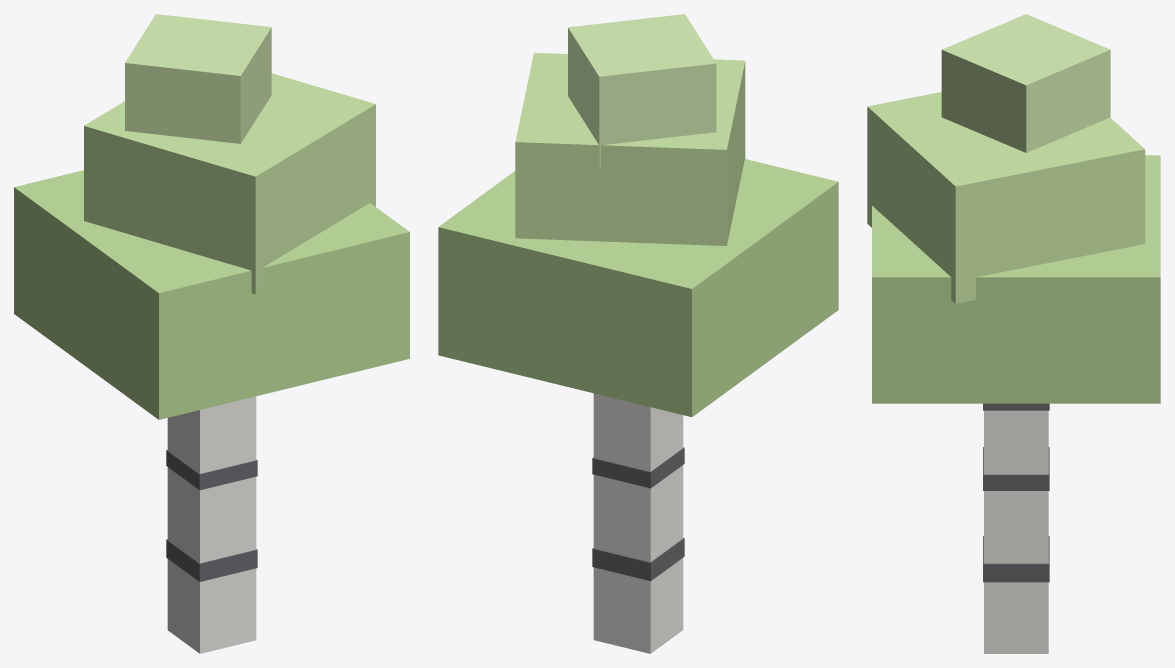
Rendered from TreeBirch.fbx.
The picture shows the model from 3 angles, left to right: view 1: azimuth 30°, elevation 25°; view 2: azimuth 150°, elevation 25°; view 3: azimuth 270°, elevation 25°; orthographic projection.
Parts seen in each view (by area): view 1: Leaves.005, Leaves.006, Trunk.002, Leaves.007, Bark, Bark.001; view 2: Leaves.005, Leaves.006, Trunk.002, Leaves.007, Bark, Bark.001; view 3: Leaves.005, Leaves.006, Leaves.007, Trunk.002, Bark, Bark.001, Bark.002.
Boxes of the visible parts, x1=… form: Leaves.005: x1=14, y1=170, x2=409, y2=419; Leaves.006: x1=84, y1=73, x2=375, y2=294; Trunk.002: x1=167, y1=396, x2=256, y2=653; Leaves.007: x1=125, y1=14, x2=271, y2=143; Bark: x1=166, y1=539, x2=257, y2=581; Bark.001: x1=166, y1=450, x2=257, y2=490; Leaves.005: x1=438, y1=159, x2=838, y2=417; Leaves.006: x1=515, y1=52, x2=745, y2=245; Trunk.002: x1=593, y1=393, x2=683, y2=653; Leaves.007: x1=568, y1=14, x2=716, y2=168; Bark: x1=592, y1=538, x2=684, y2=581; Bark.001: x1=592, y1=447, x2=684, y2=488; Leaves.005: x1=872, y1=155, x2=1160, y2=403; Leaves.006: x1=867, y1=92, x2=1145, y2=303; Leaves.007: x1=941, y1=14, x2=1110, y2=152; Trunk.002: x1=984, y1=410, x2=1048, y2=653; Bark: x1=983, y1=536, x2=1049, y2=582; Bark.001: x1=983, y1=447, x2=1049, y2=490; Bark.002: x1=983, y1=403, x2=1049, y2=410.
Size of the model in its own units: 168 by 364 by 165.
